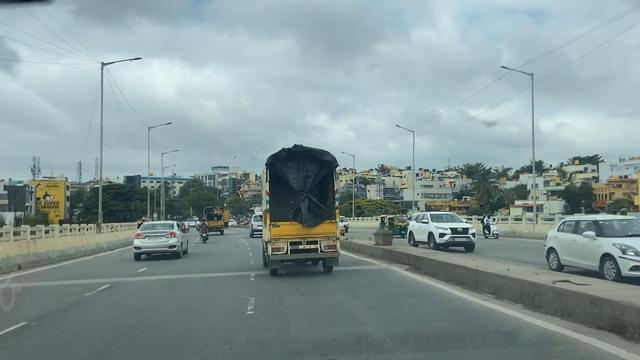HMV: (263, 142, 353, 275)
